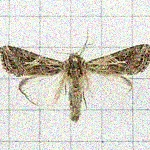Spodoptera litura: (0, 27, 149, 122)
